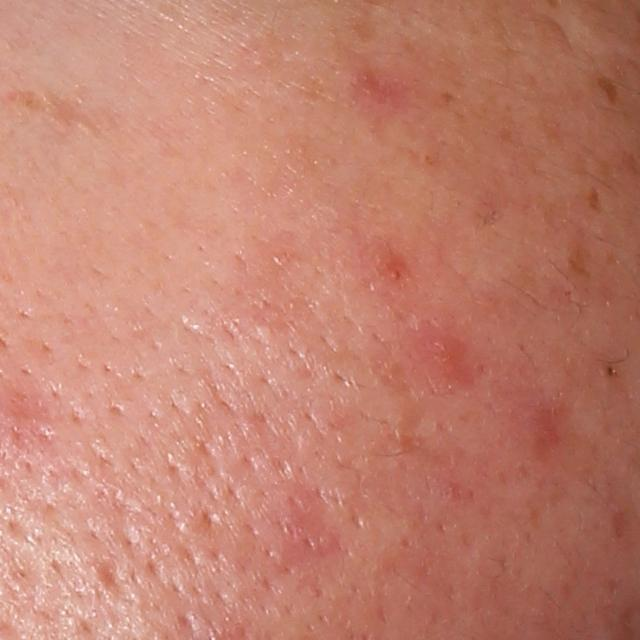atrophic_scar: (92, 557, 131, 603)
comedo: (598, 360, 621, 382)
melasma: (0, 85, 104, 138), (594, 76, 622, 107)
